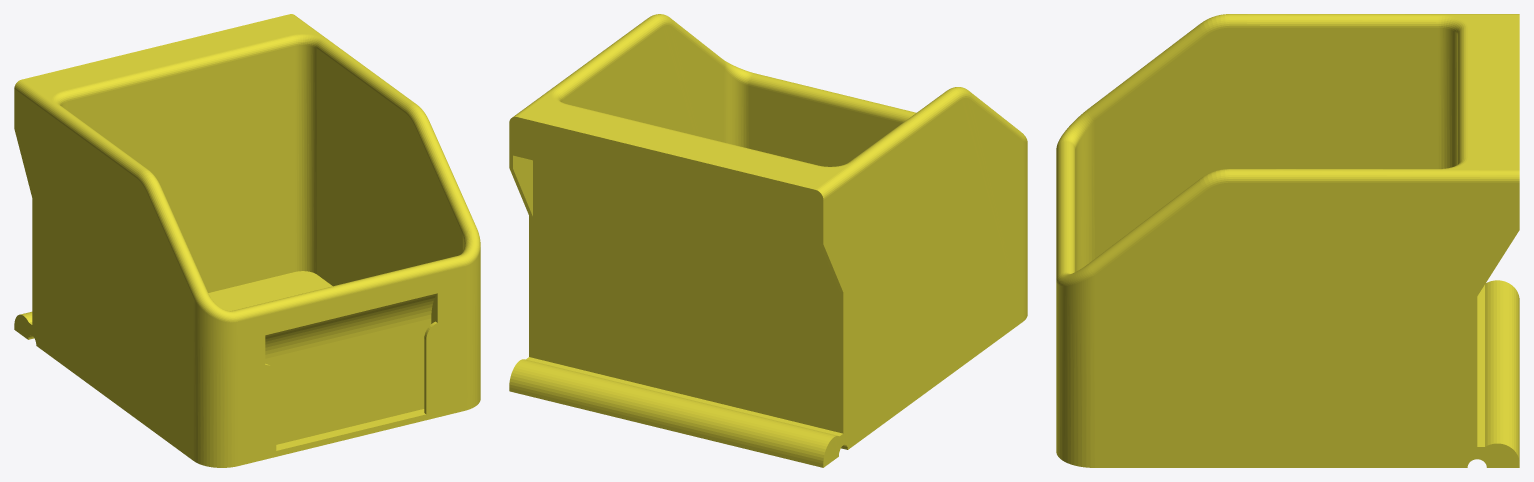
The model's file is 50mm_yellow.dae.
The picture shows the model from 3 angles, left to right: view 1: azimuth 30°, elevation 25°; view 2: azimuth 150°, elevation 25°; view 3: azimuth 270°, elevation 25°; orthographic projection. The views are drawn at different scales.
Visible parts, largest first — view 1: _0Mm_Open_Bin; view 2: _0Mm_Open_Bin; view 3: _0Mm_Open_Bin.
Part boxes in pixels (box(x1,y1,x2,y2)): _0Mm_Open_Bin: box(14, 14, 480, 467); _0Mm_Open_Bin: box(509, 14, 1027, 467); _0Mm_Open_Bin: box(1056, 14, 1519, 467).
Bounding box in the file's own units: 0.2 × 0.24 × 0.168.
